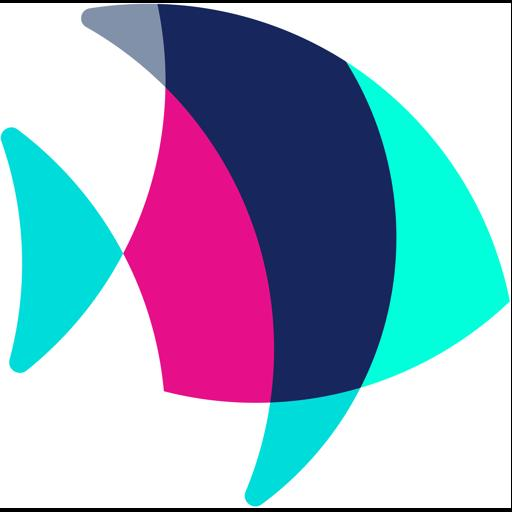POF: (0, 3, 511, 508)
